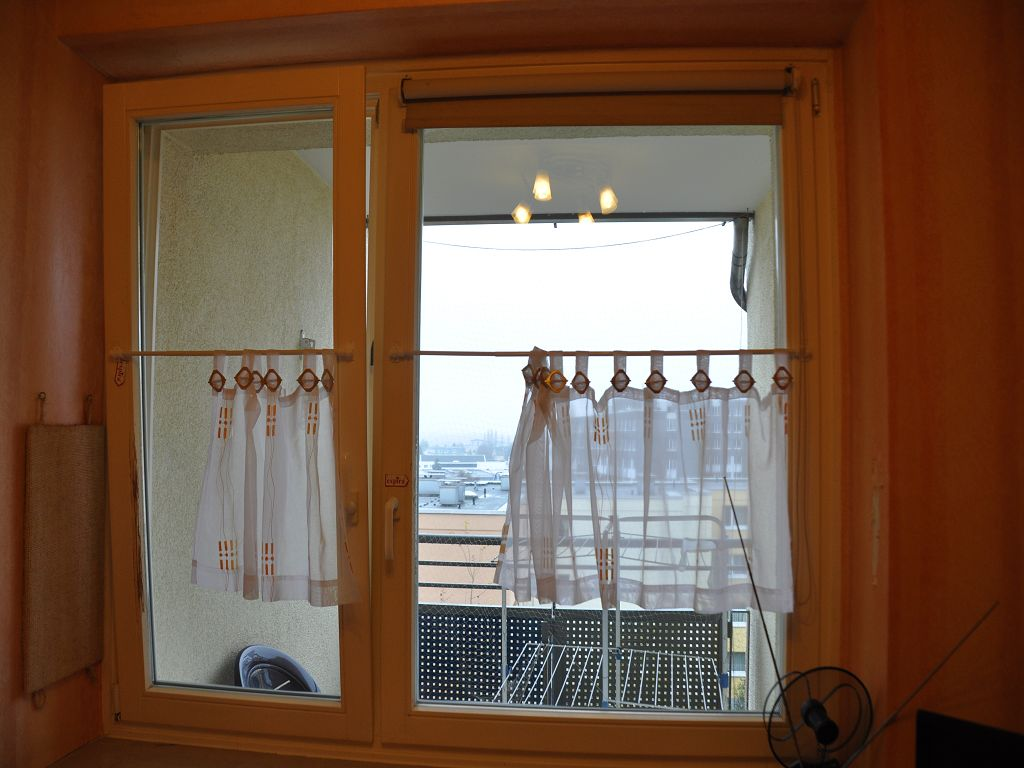windows: (99, 83, 831, 736)
